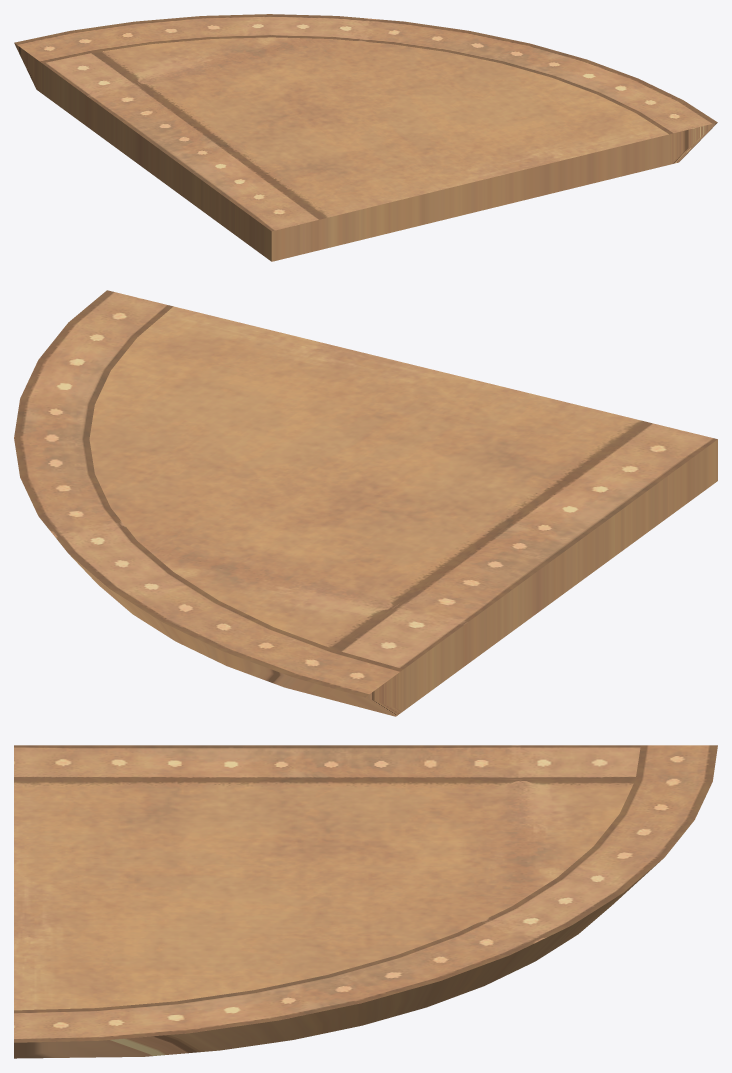
Rendered from Big_Upperfloor_C.fbx.
3 views of the same model, one above another, from view 1: azimuth 30°, elevation 25°; view 2: azimuth 150°, elevation 25°; view 3: azimuth 270°, elevation 25° (orthographic). The views are drawn at different scales.
Parts seen in each view (by area): view 1: Big_Upperfloor_C; view 2: Big_Upperfloor_C; view 3: Big_Upperfloor_C.
Part boxes in pixels (x1=…): Big_Upperfloor_C: x1=14, y1=14, x2=717, y2=261; Big_Upperfloor_C: x1=14, y1=290, x2=717, y2=716; Big_Upperfloor_C: x1=14, y1=745, x2=717, y2=1058.
Size of the model in its own units: 3.06 by 0.2 by 3.06.
